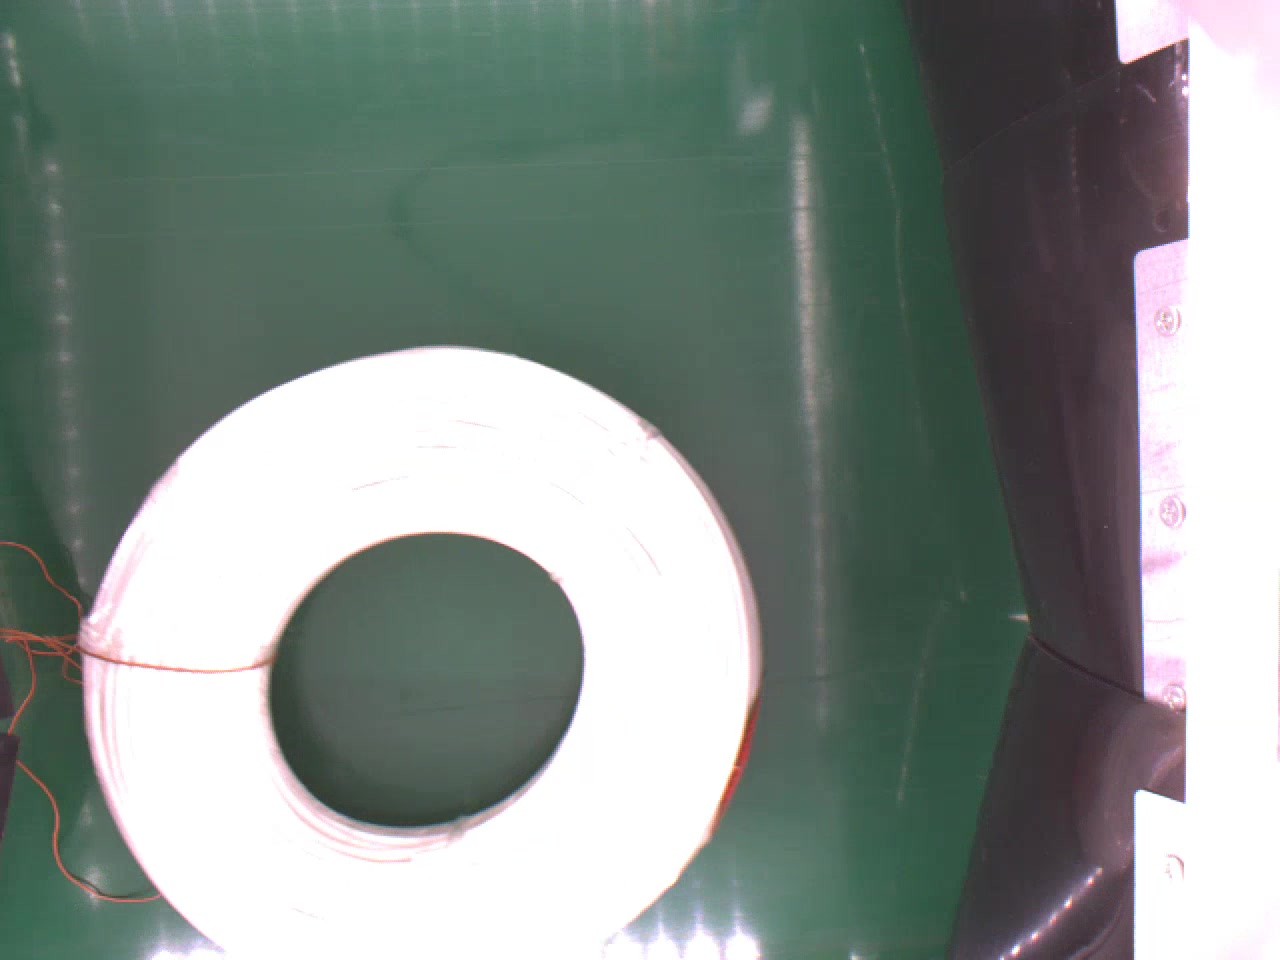white: (79, 344, 752, 960)
